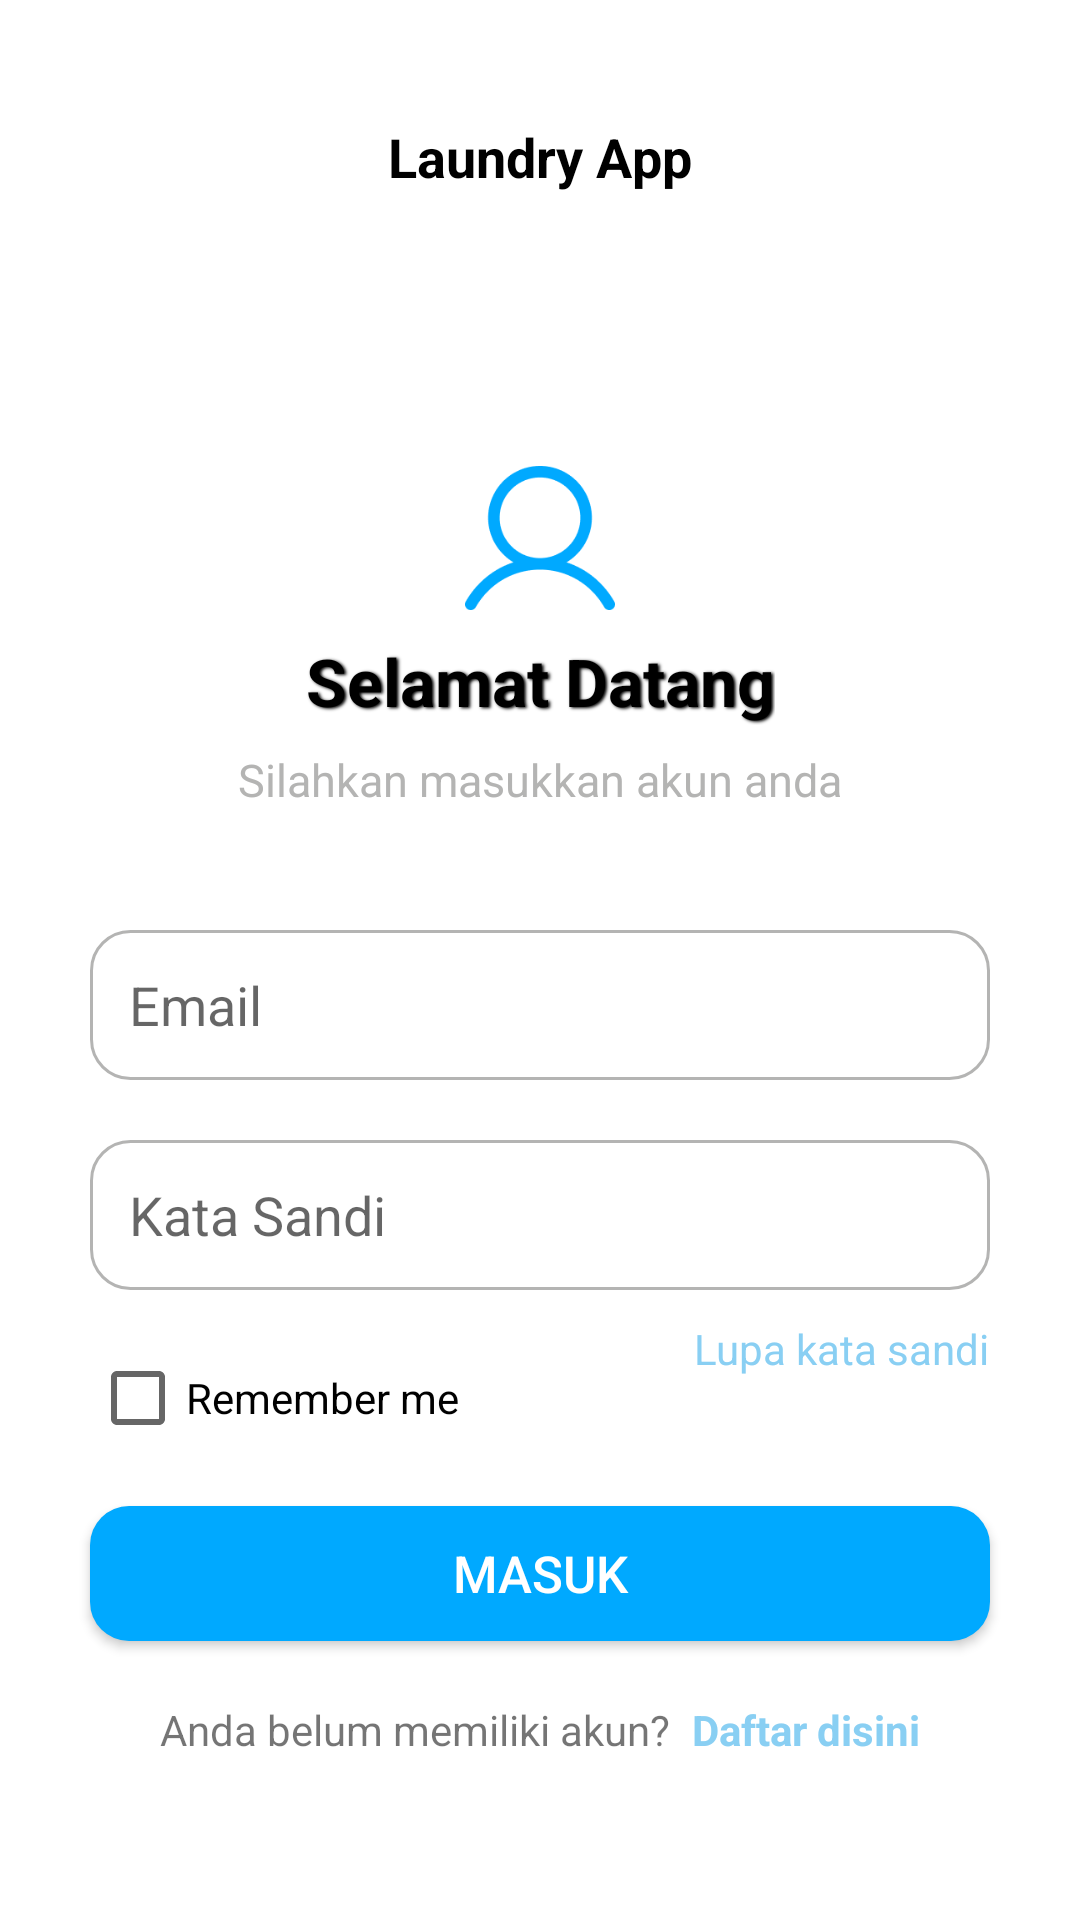

Icons on this 1080*1920 Android screen, each with its box as [x1, y1, x2, y2]:
user: [465, 466, 615, 610]
